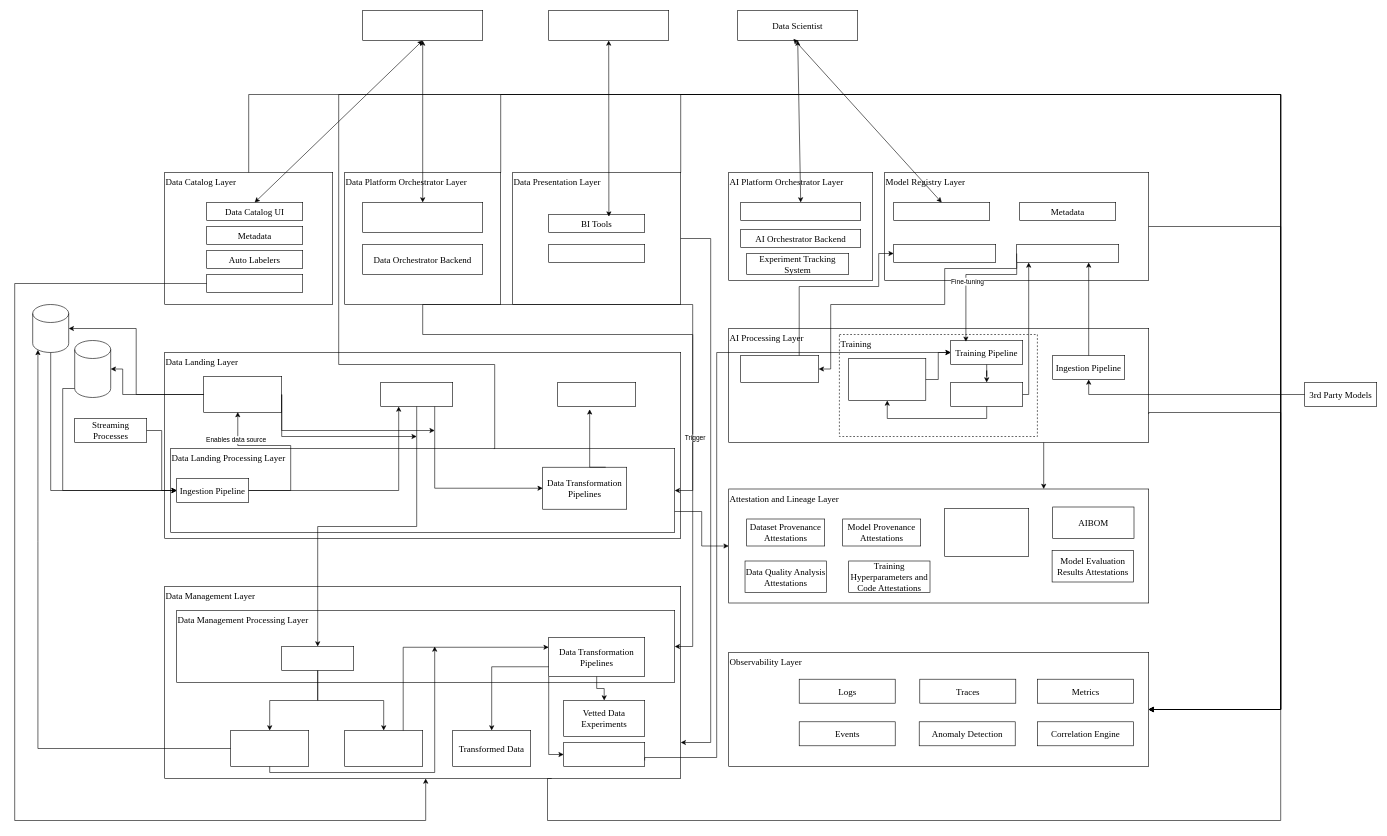
This 1387x836 diagram has some shape labels left out. The centre of each missing label's shape, as x and y in pixels:
AI Orchestrator Interface: (x=800, y=211)
Business User: (x=608, y=25)
Crawlers: (x=254, y=283)
Data Engineer: (x=422, y=25)
Data Landing Proxy: (x=242, y=394)
Data Management Proxy: (x=269, y=748)
Data Orchestrator Interface: (x=422, y=217)
Data Transformation Code and Dependencies Attestations: (x=986, y=532)
Data Validation Pipeline: (x=317, y=658)
External Data Sources: (x=50, y=328)
Feature Stores: (x=604, y=754)
Hyperparameters Store: (x=887, y=379)
Model Evaluation Pipelines: (x=779, y=368)
Model Registry UI: (x=941, y=211)
Other Domain's Data Sources: (x=92, y=369)
Raw Data: (x=416, y=394)
Raw Data Experiments: (x=596, y=394)
Reports: (x=596, y=253)
Unvetted Model Artifacts: (x=1067, y=253)
Validation Pipeline: (x=986, y=394)
Vetted Model Artifacts: (x=944, y=253)
Vetted Raw Data: (x=383, y=748)
